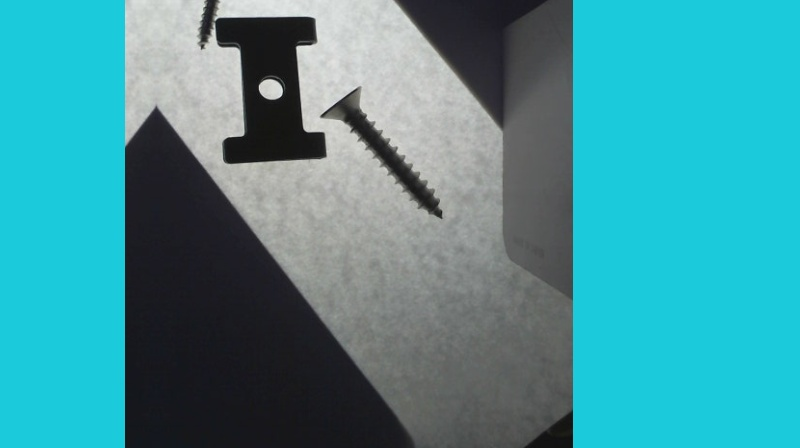O001: (183, 0, 255, 50)
O002: (215, 13, 324, 166)
S001: (318, 85, 445, 220)
